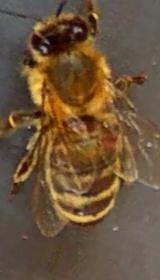varroa_mite: (94, 126, 122, 154)
